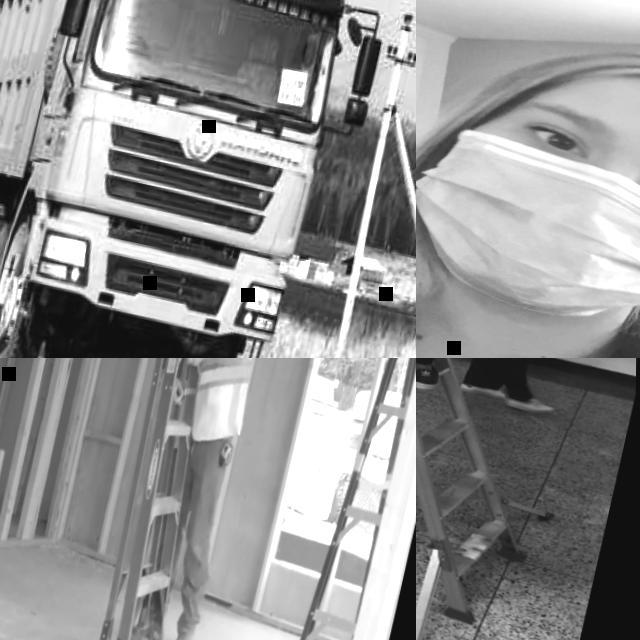Robbery: (414, 12, 640, 342)
